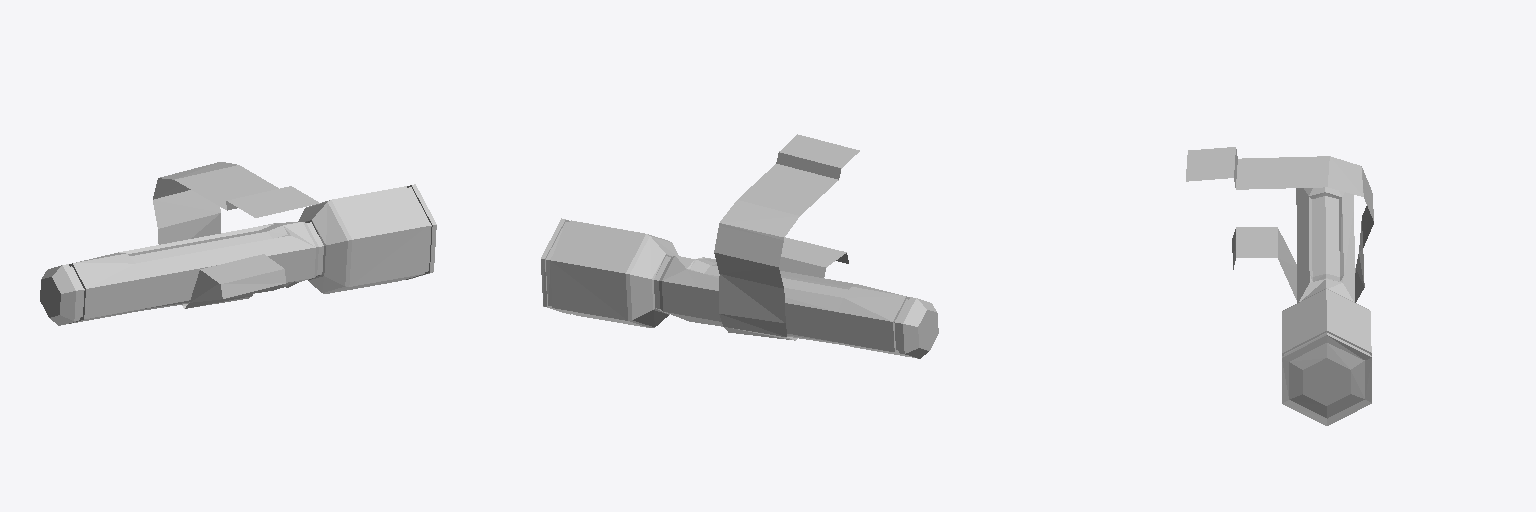
The model's file is ak74u_flashlight.obj.
3 views of the same model, side by side, from view 1: azimuth 30°, elevation 25°; view 2: azimuth 150°, elevation 25°; view 3: azimuth 270°, elevation 25° (orthographic).
Parts seen in each view (by area): view 1: attachmentModel; view 2: attachmentModel; view 3: attachmentModel.
Boxes of the visible parts, x1=… form: attachmentModel: x1=40, y1=162, x2=436, y2=325; attachmentModel: x1=541, y1=134, x2=938, y2=358; attachmentModel: x1=1186, y1=147, x2=1373, y2=425.
Size of the model in its own units: 3.41 by 1.48 by 1.51.